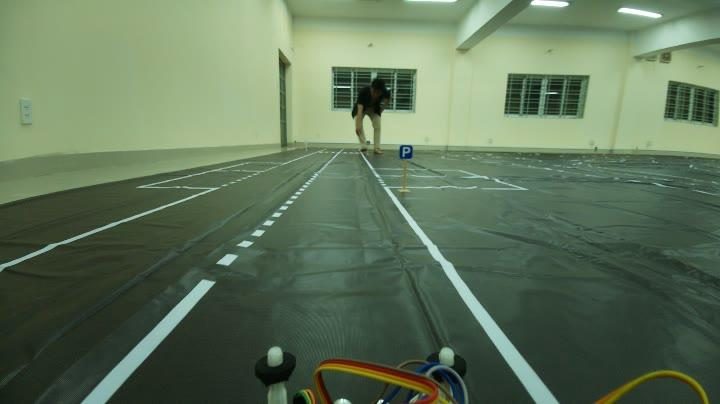parking: (397, 139, 415, 160)
